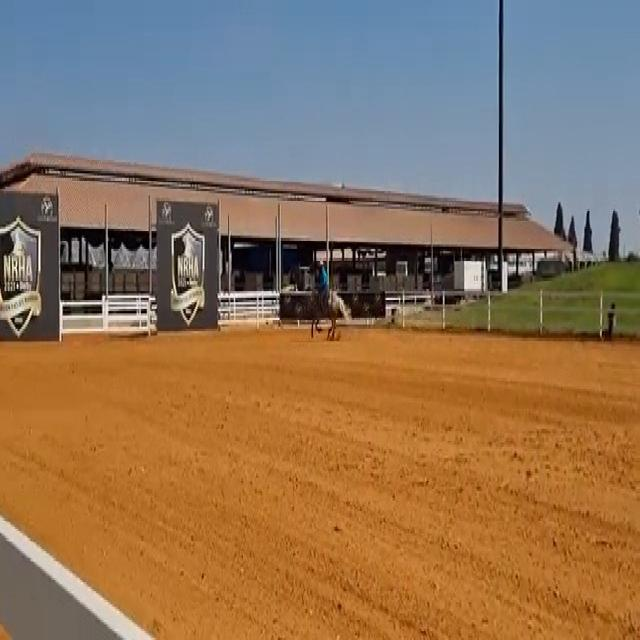horse: (275, 280, 353, 340)
